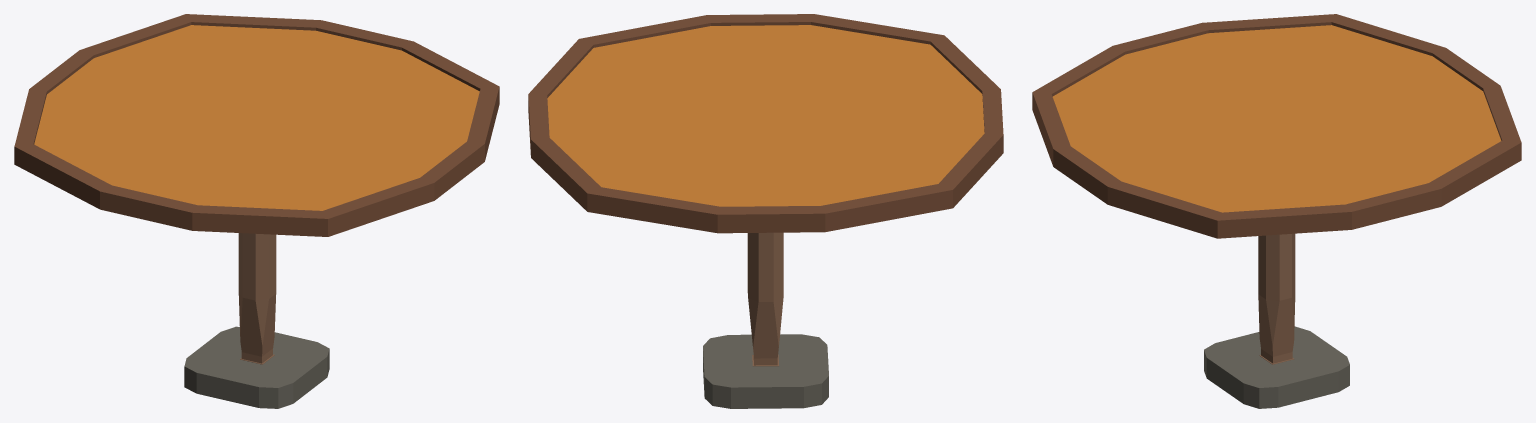
The model's file is Roundtable.fbx.
3 views of the same model, side by side, from view 1: azimuth 30°, elevation 25°; view 2: azimuth 150°, elevation 25°; view 3: azimuth 270°, elevation 25° (orthographic). The views are drawn at different scales.
Visible parts, largest first — view 1: Object.135; view 2: Object.135; view 3: Object.135.
Boxes of the visible parts, x1,y1,x2,y2 form: Object.135: (14, 14, 499, 408); Object.135: (528, 14, 1003, 408); Object.135: (1032, 14, 1521, 408).
Size of the model in its own units: 7.5 by 7.5 by 4.41.
